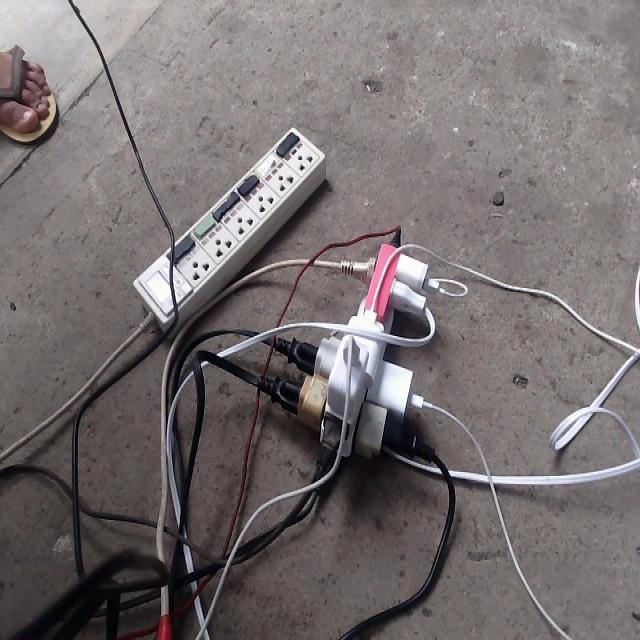-: (270, 232, 444, 465)
